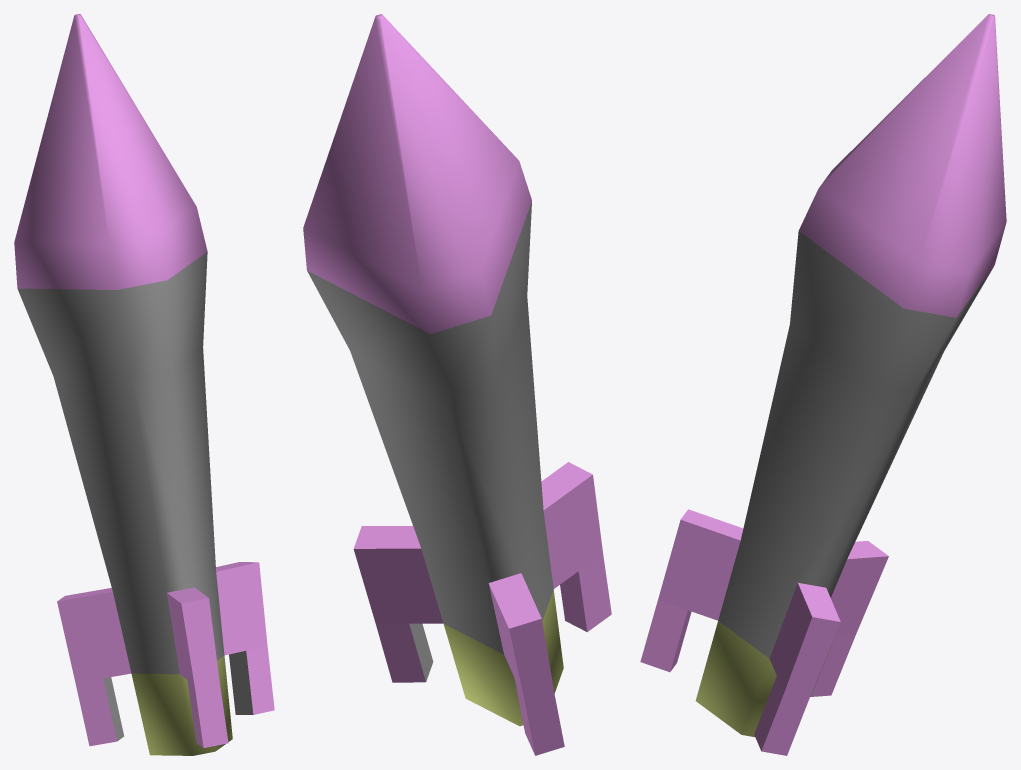
Rendered from SM_SpecialAmmo Pickup.fbx.
The picture shows the model from 3 angles, left to right: view 1: azimuth 30°, elevation 25°; view 2: azimuth 150°, elevation 25°; view 3: azimuth 270°, elevation 25°; orthographic projection. The views are drawn at different scales.
Parts seen in each view (by area): view 1: Cone001; view 2: Cone001; view 3: Cone001.
Part boxes in pixels (x1,y1,x2,y2): Cone001: (14,14,274,755); Cone001: (303,14,611,755); Cone001: (640,14,1006,755).
Size of the model in its own units: 68.72 by 246 by 115.
